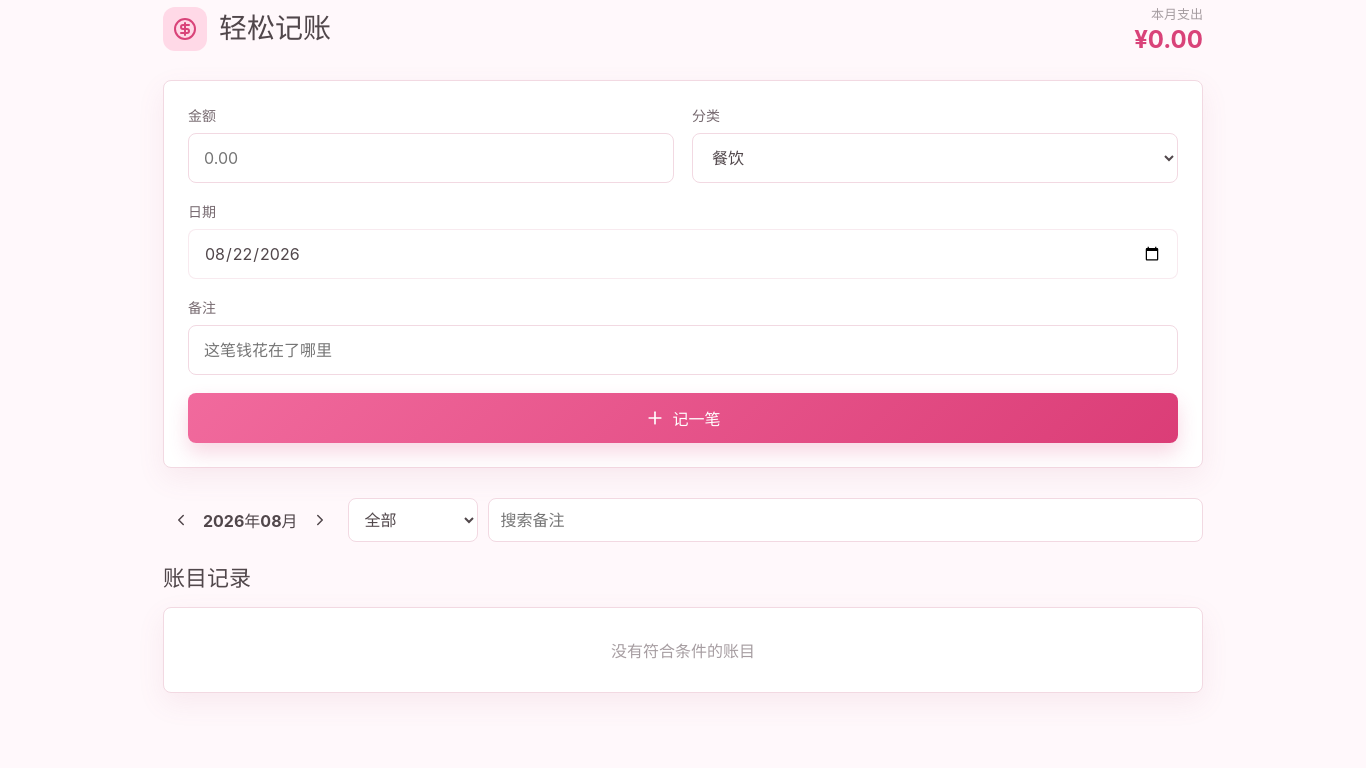
AccountsPage › 编辑账目时可以修改日期
Type "36" into the field labelled "金额" at x=431, y=158, box [188, 133, 674, 183]
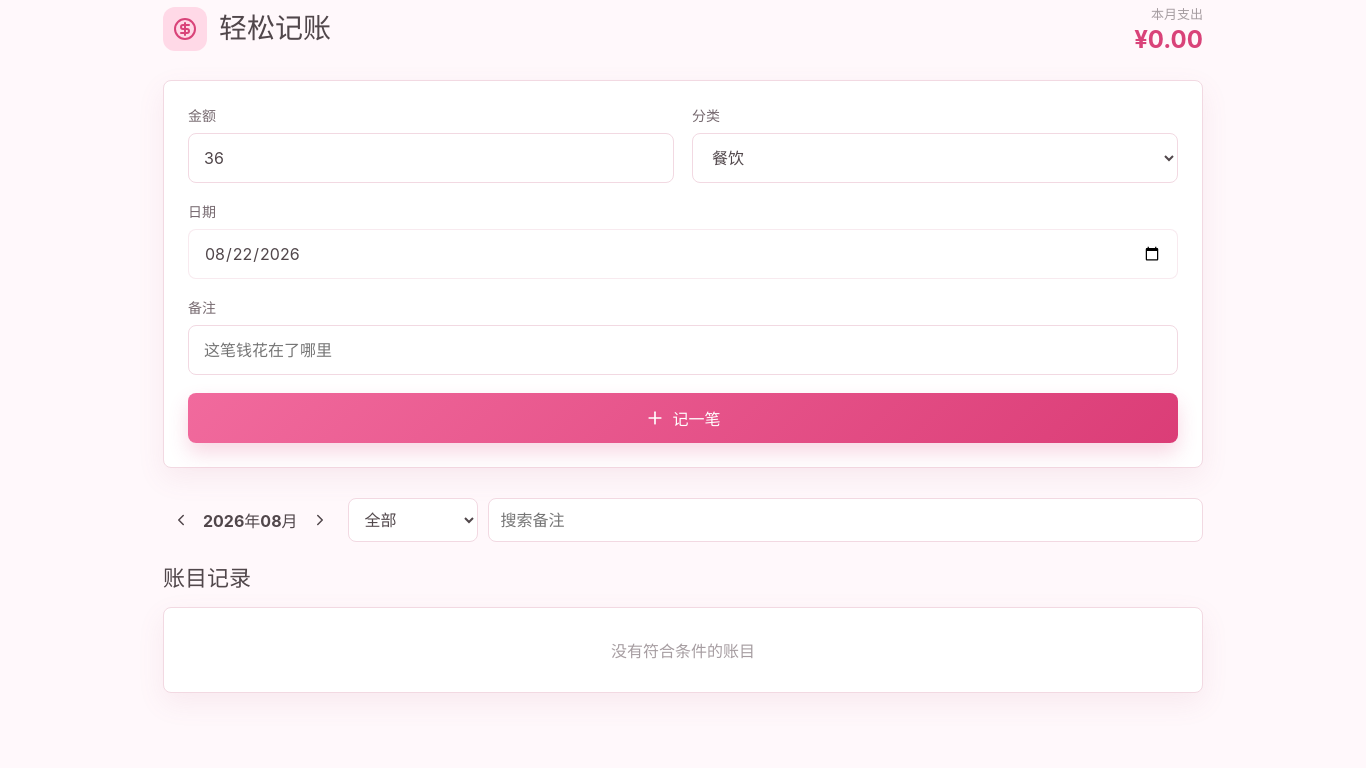
Type "午餐" into the field labelled "备注" at x=683, y=350, box [188, 325, 1178, 375]
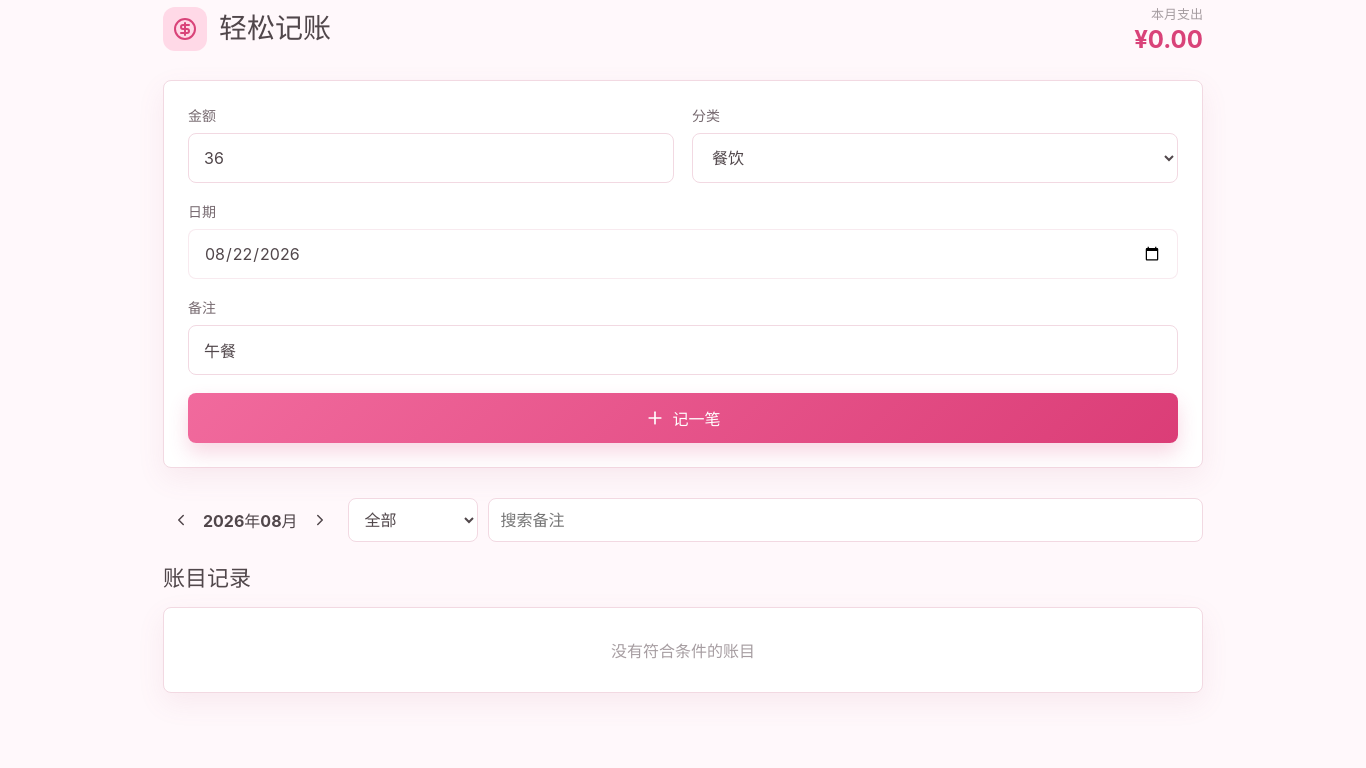
Click the button "记一笔" at x=683, y=418, box [188, 393, 1178, 443]
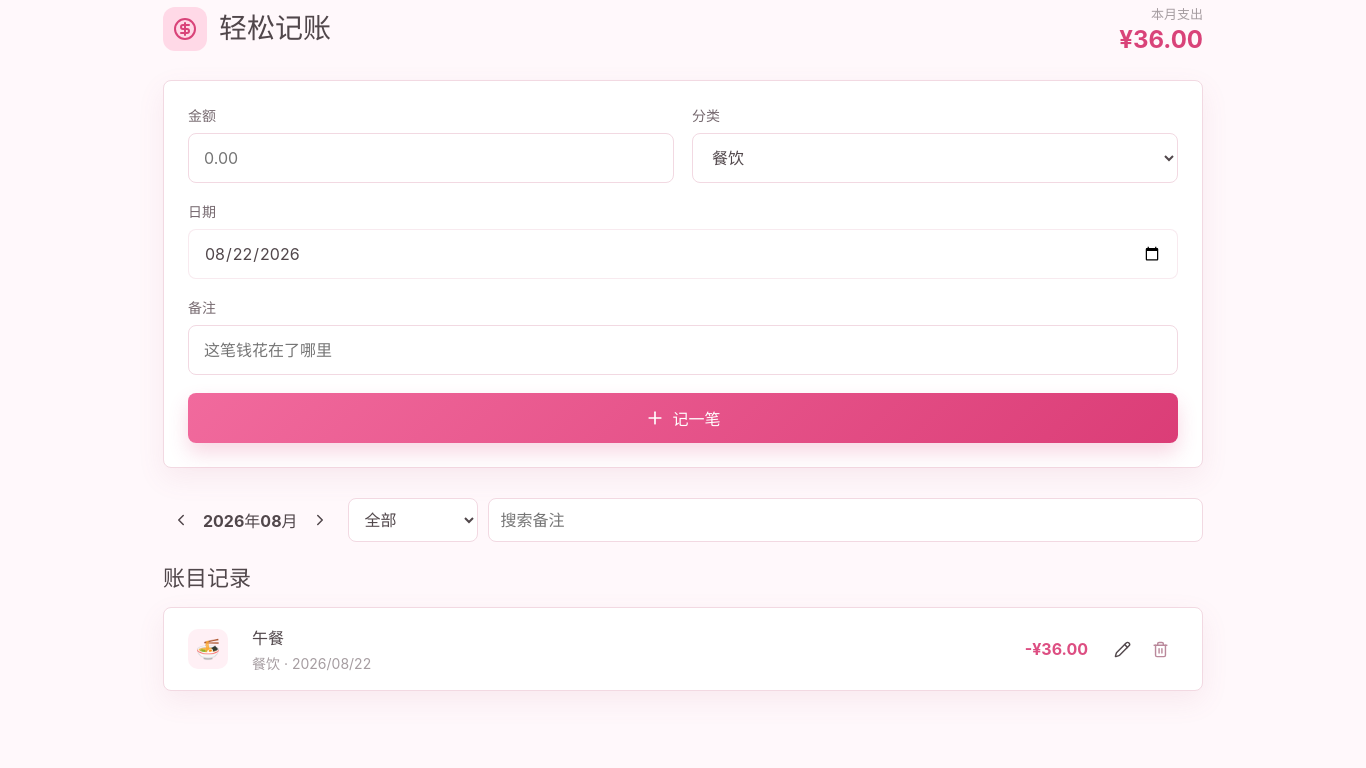
Click the button named "编辑午餐" at x=1122, y=649, box [1104, 631, 1140, 667]
(page scrolled)
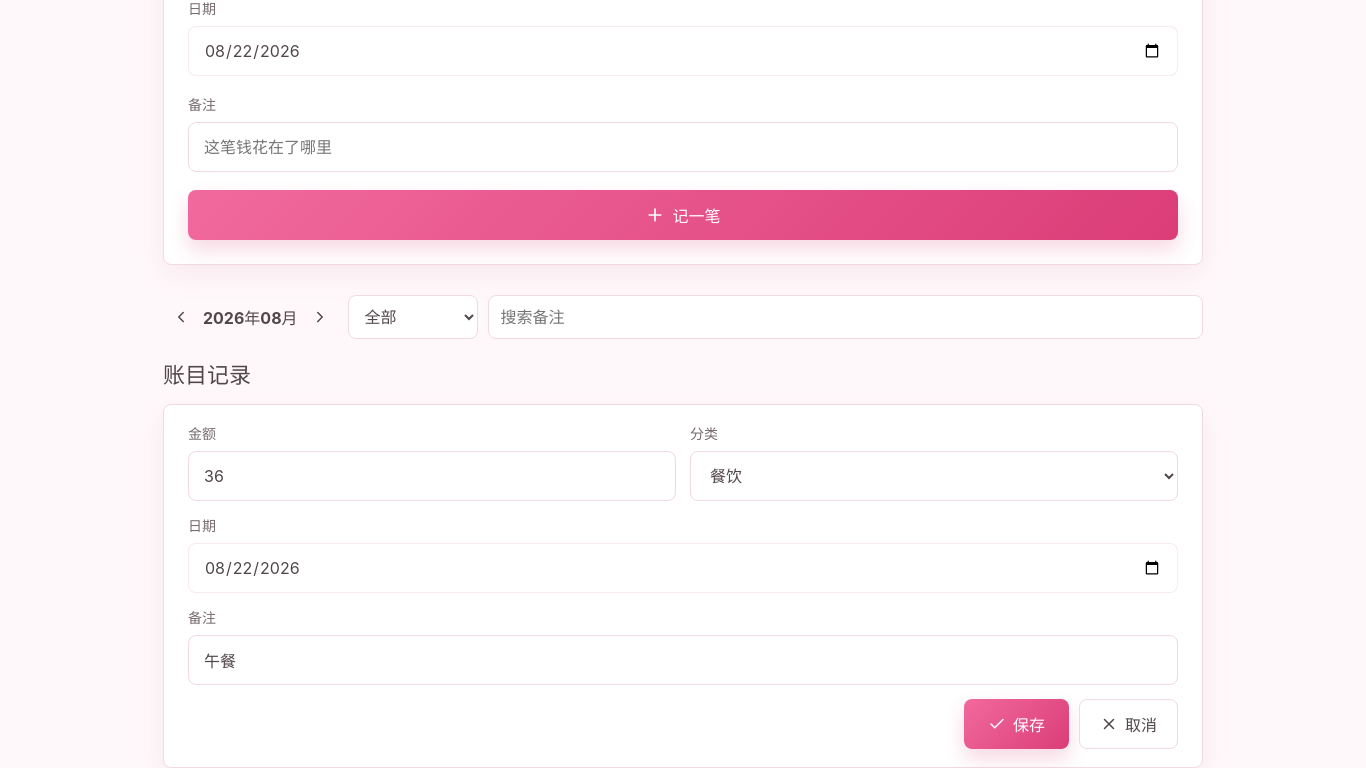
Type "2026-08-08" into the date field named "编辑午餐日期" at x=683, y=568, box [188, 543, 1178, 593]
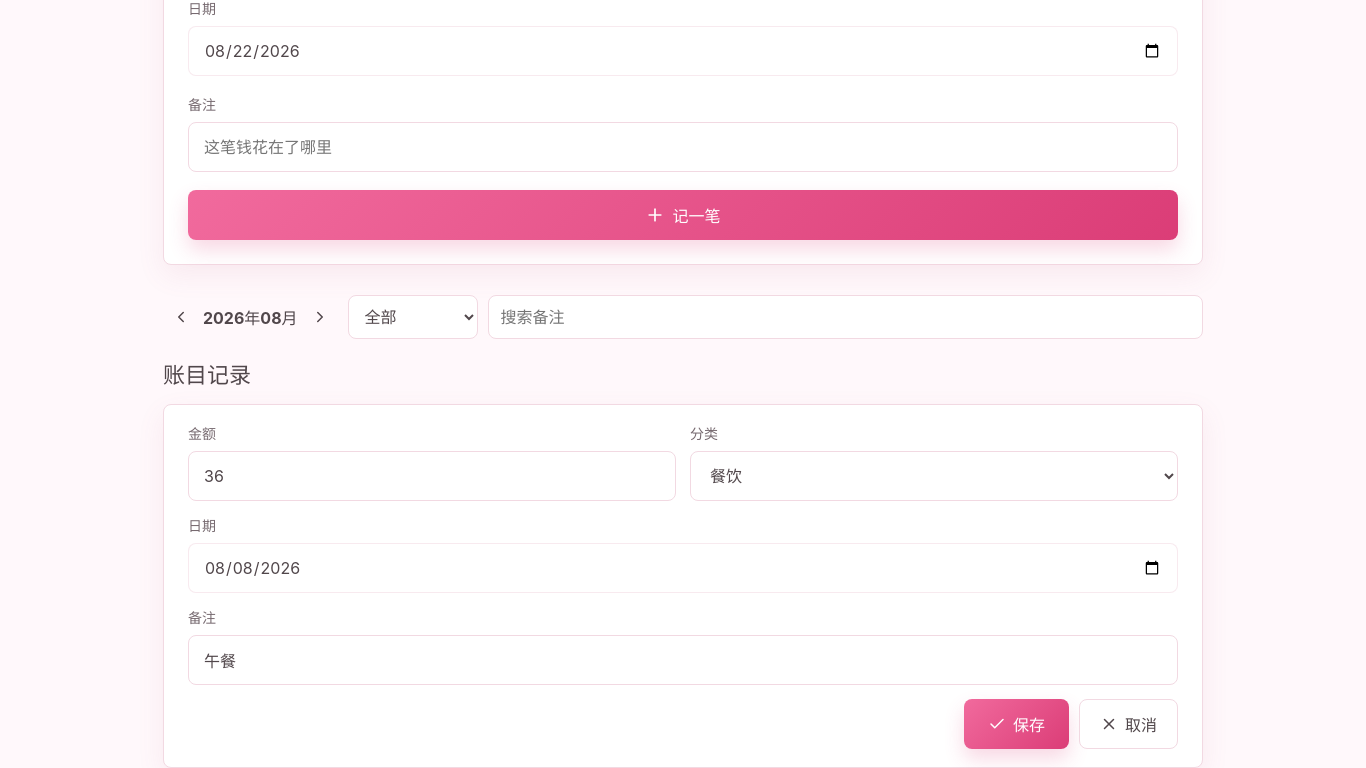
Click the button "保存" at x=1016, y=724, box [964, 699, 1069, 749]
(page scrolled)
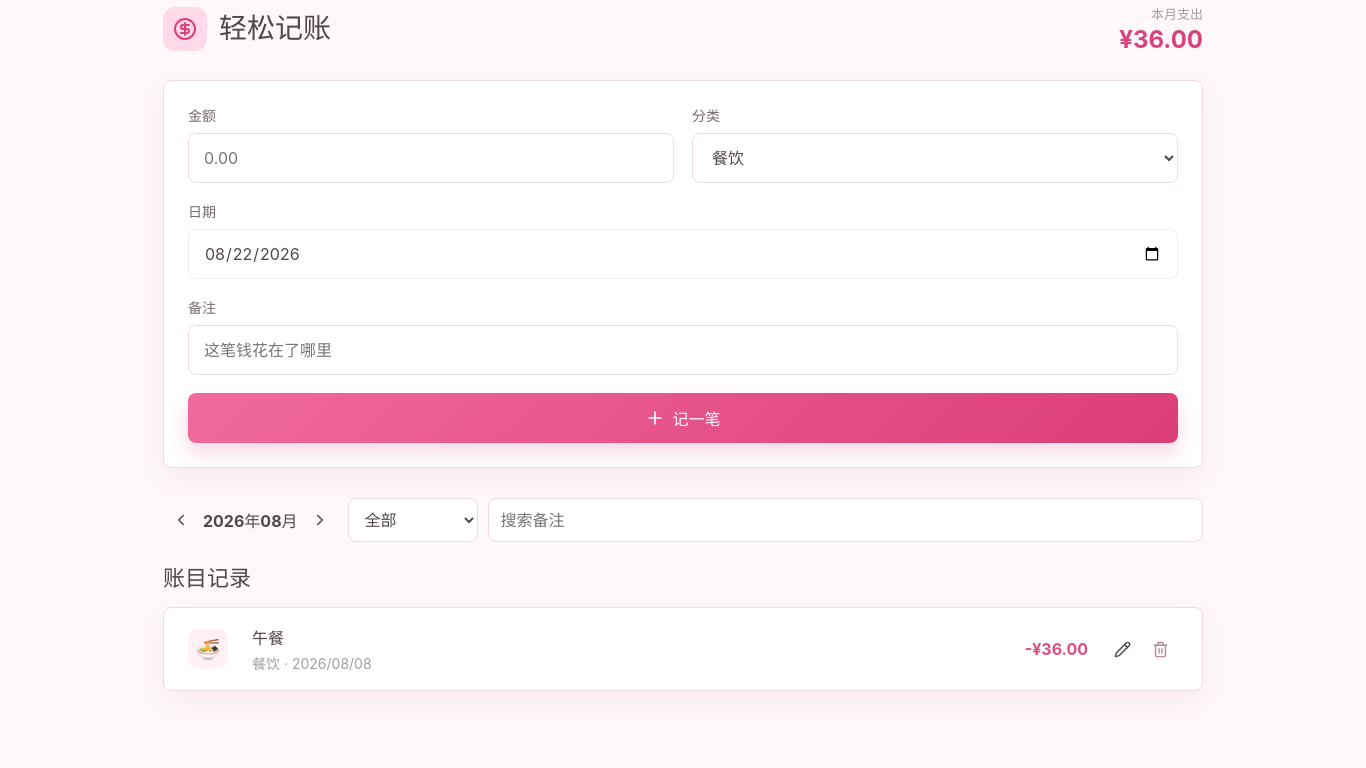
Expected: the text "餐饮 · 2026/08/08" is shown, [252, 655, 372, 672]
